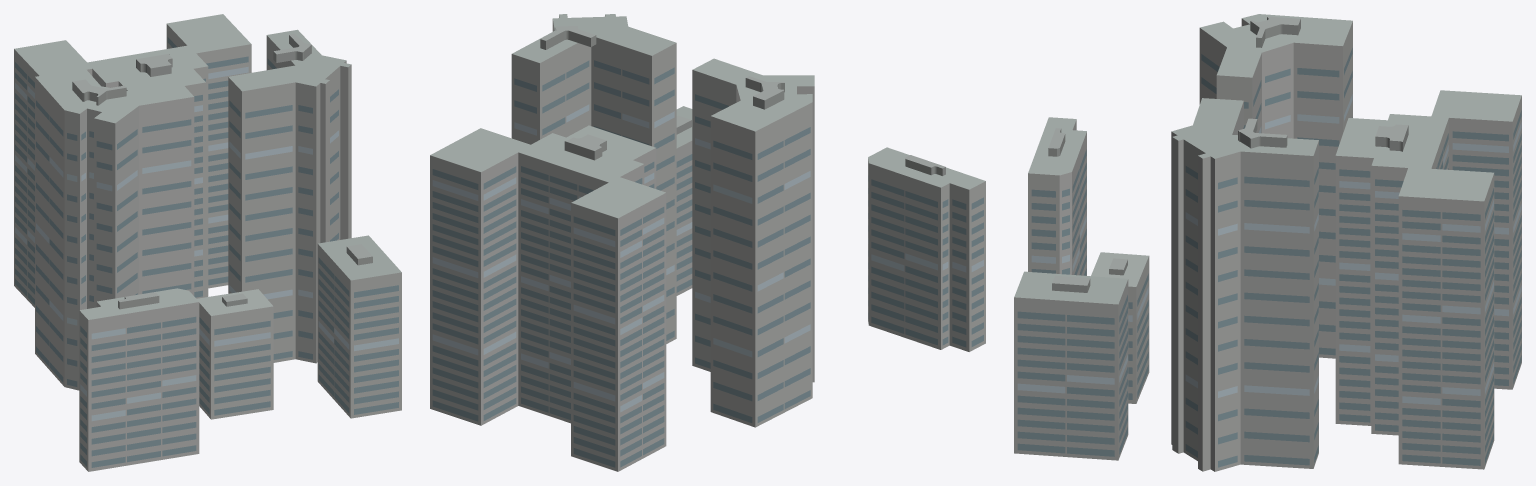
The model's file is apt-a13370801.glb.
3 renders of one model, left to right at view 1: azimuth 30°, elevation 25°; view 2: azimuth 150°, elevation 25°; view 3: azimuth 270°, elevation 25°, orthographic. The views are drawn at different scales.
Visible parts, largest first — view 1: apt-a13370801; view 2: apt-a13370801; view 3: apt-a13370801.
Boxes of the visible parts, box(x1,y1,x2,y2) form: apt-a13370801: box(14, 14, 401, 471); apt-a13370801: box(430, 14, 985, 471); apt-a13370801: box(1014, 14, 1521, 471).
Size of the model in its own units: 96.06 by 79 by 113.
